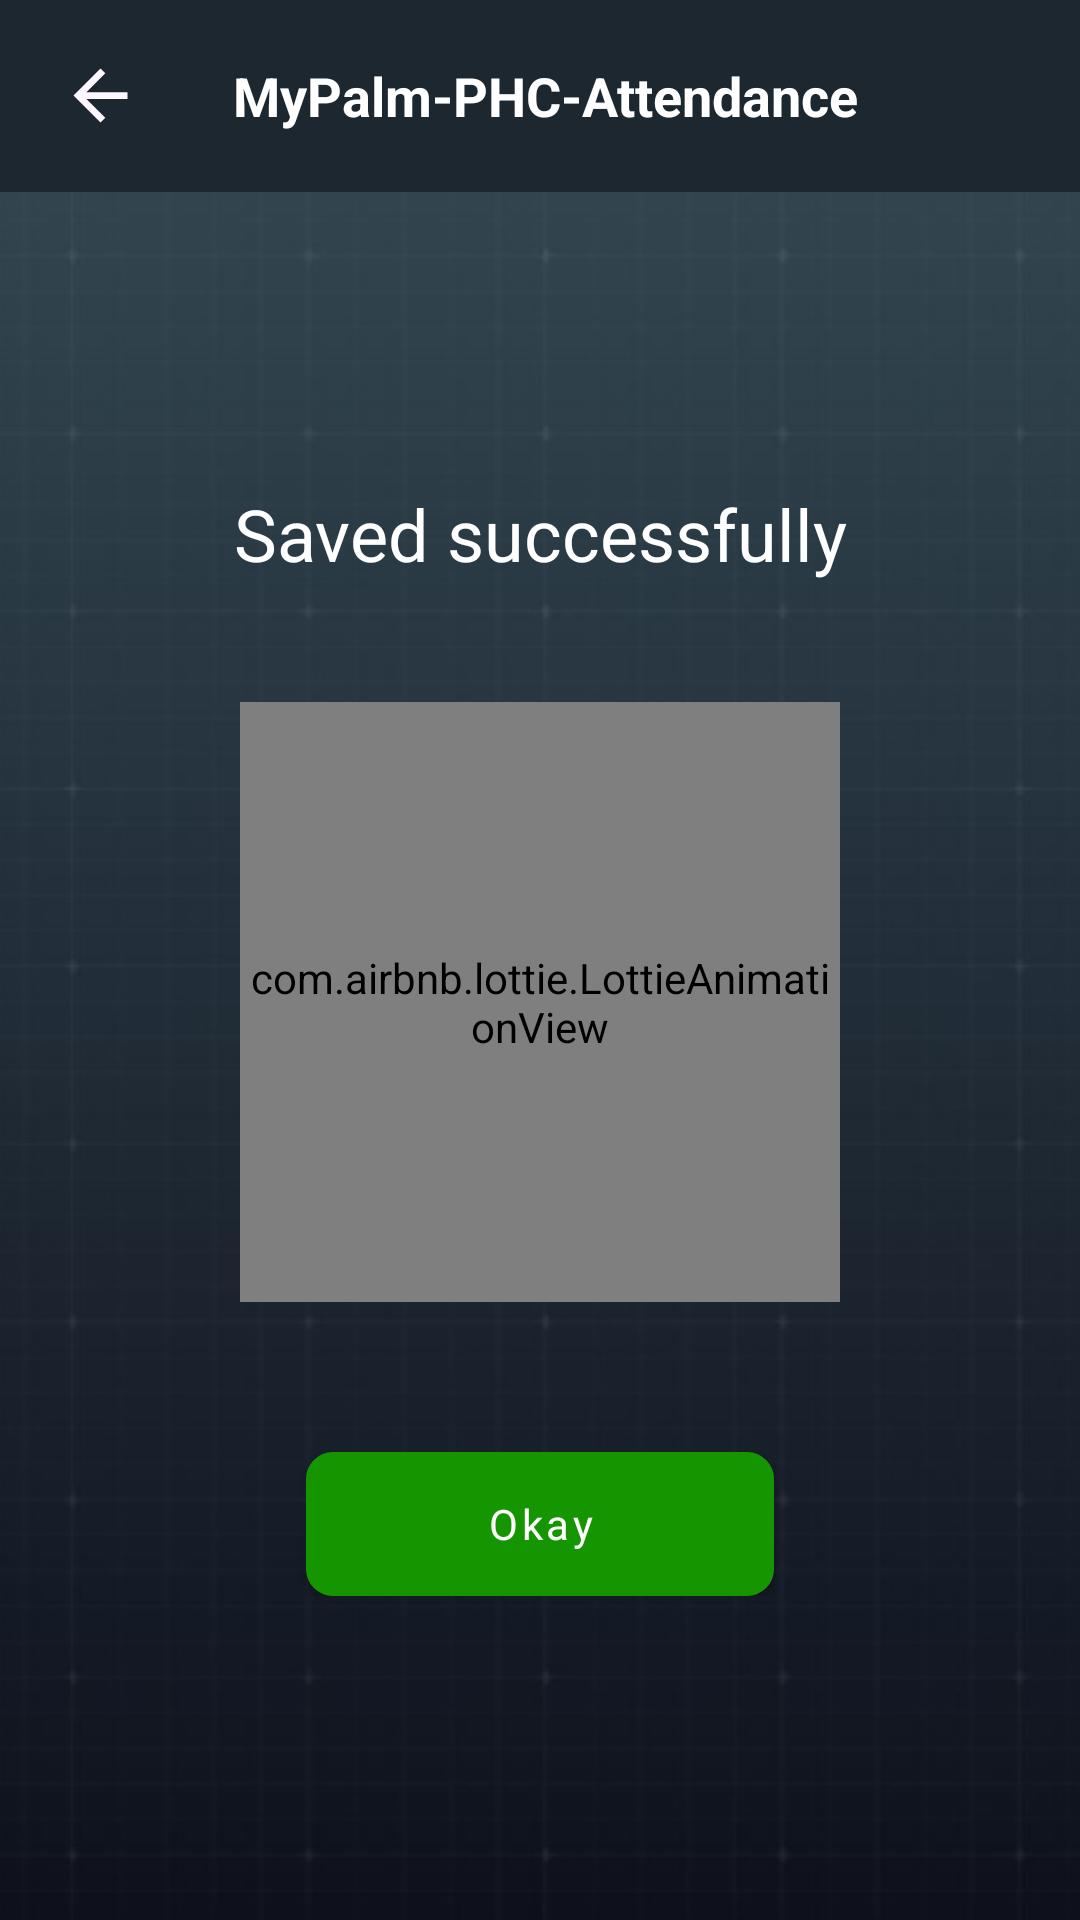

Icons on this 1080 x 1920 Android screen, each with its box as [x1=x1, y1=y1, x2=x2, y2=y2]:
arrow back: [x1=73, y1=68, x2=128, y2=123]
